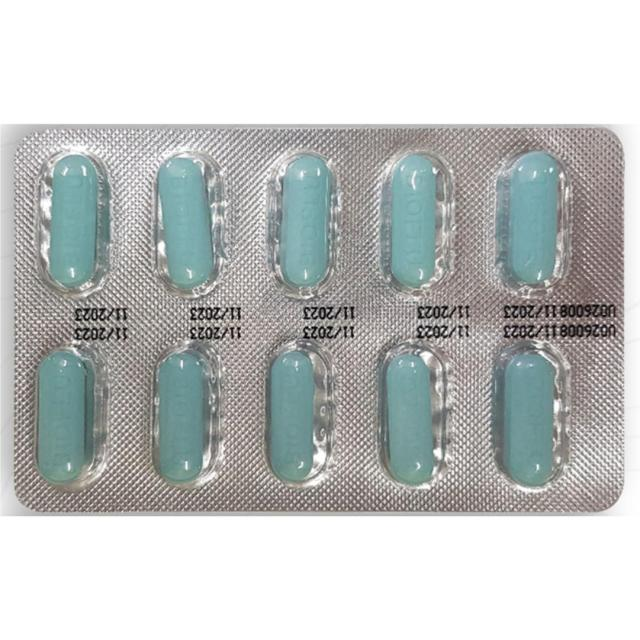blister: (13, 124, 630, 519)
